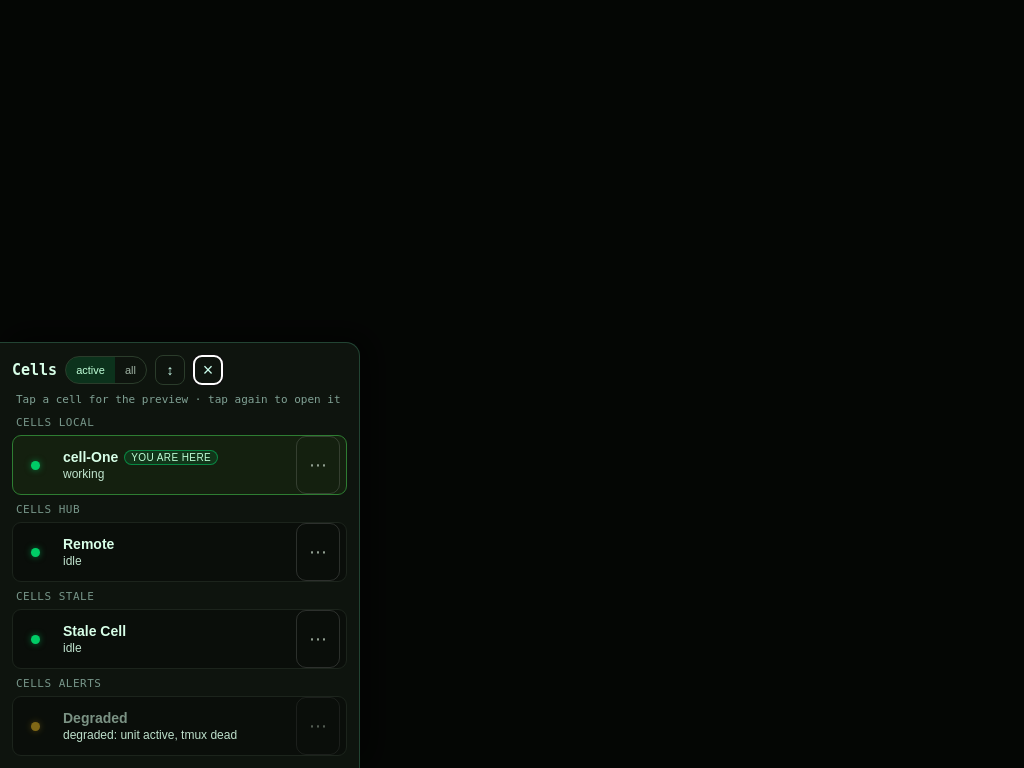
CellSwitcher › no telemetry, no field: cells that do not publish it keep the row exactly as it was
Expected: the button "cell-One you are here working" is shown, [63,436,290,494]
Click the button "all".
click(130, 370)  # box [115,357,146,383]
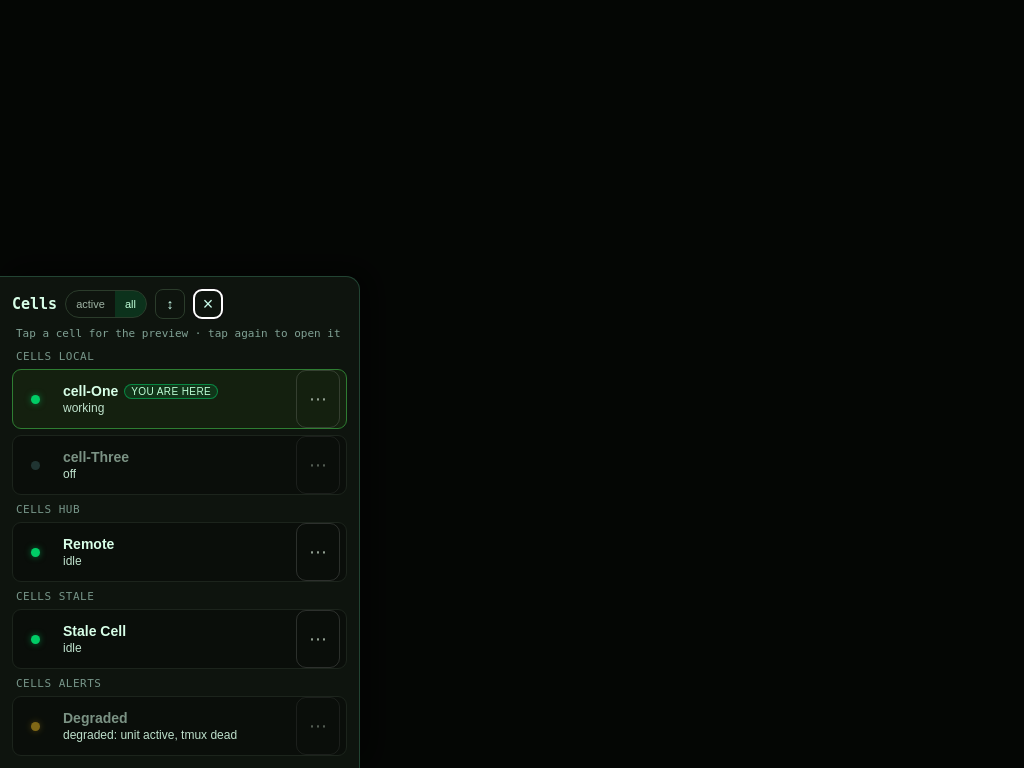
Expected: the button "cell-Three off" is shown, [63,436,290,494]
